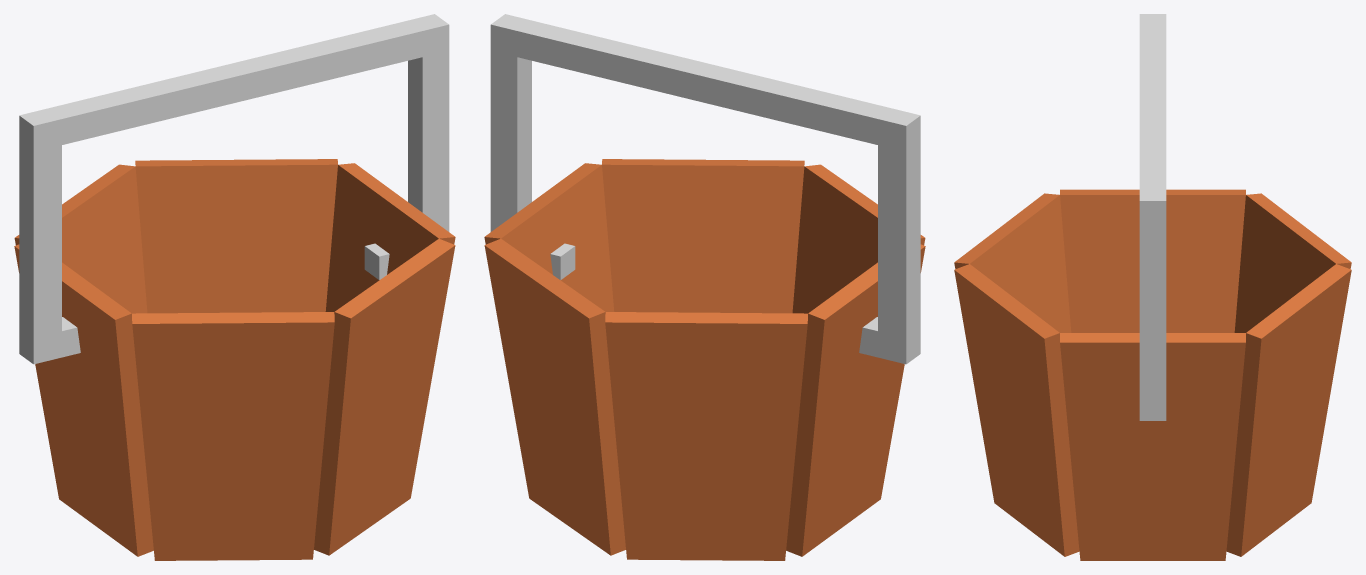
The model's file is bucket1.fbx.
3 renders of one model, left to right at view 1: azimuth 30°, elevation 25°; view 2: azimuth 150°, elevation 25°; view 3: azimuth 270°, elevation 25°, orthographic. The views are drawn at different scales.
Visible parts, largest first — view 1: container, handle; view 2: container, handle; view 3: container, handle.
Part boxes in pixels (x1,y1,x2,y2): container: [14, 159, 455, 560]; handle: [19, 14, 449, 364]; container: [484, 159, 925, 560]; handle: [490, 14, 920, 364]; container: [954, 189, 1351, 560]; handle: [1139, 14, 1166, 420].
Size of the model in its own units: 309 by 302 by 278.
